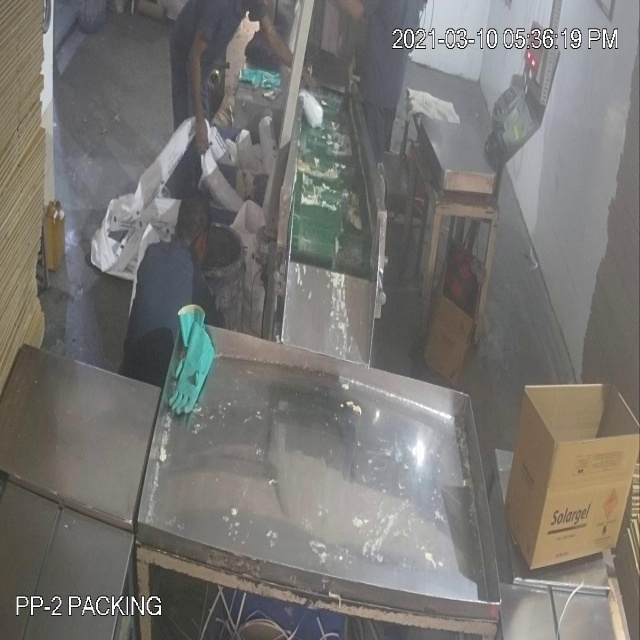Sin_guantes: (186, 20, 215, 175)
